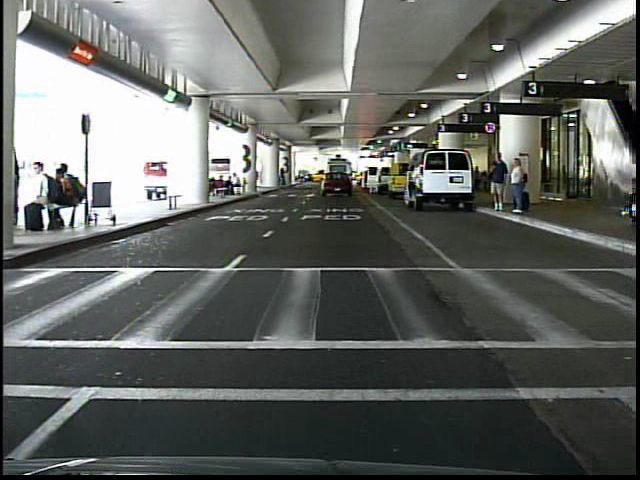person: (487, 149, 508, 217), (508, 154, 529, 220), (326, 170, 336, 194)
